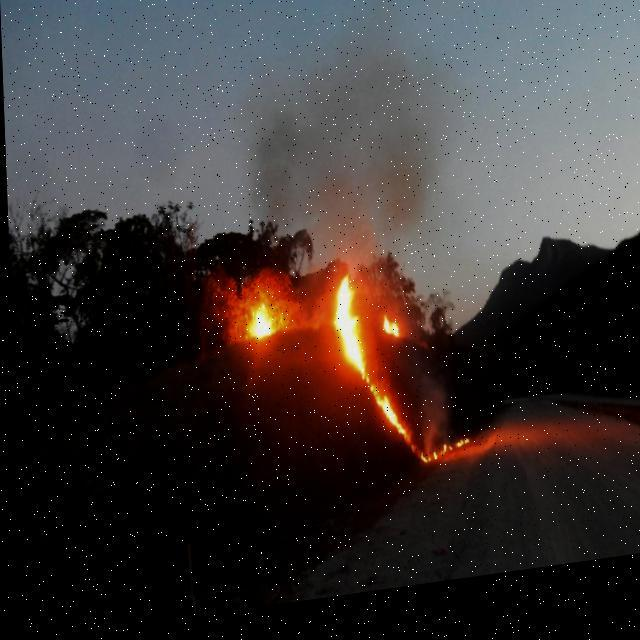Fire: (328, 286, 364, 395), (366, 394, 412, 469), (414, 450, 466, 478), (244, 304, 274, 350), (378, 324, 398, 348)
